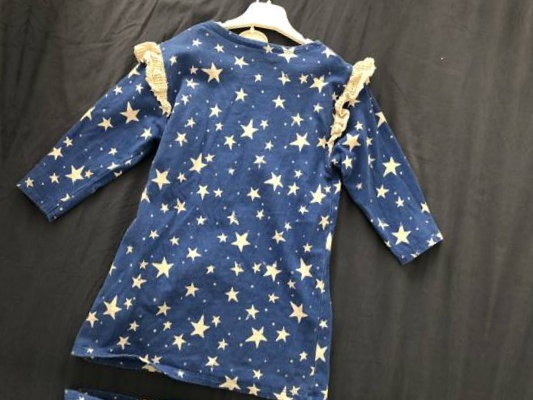Dress: (0, 0, 483, 400), (0, 364, 414, 400), (0, 0, 11, 346), (523, 54, 533, 400)
